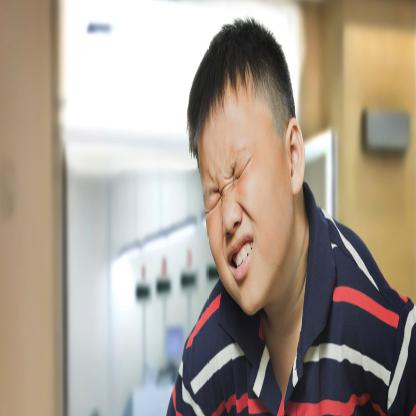pain: (201, 146, 258, 218)
